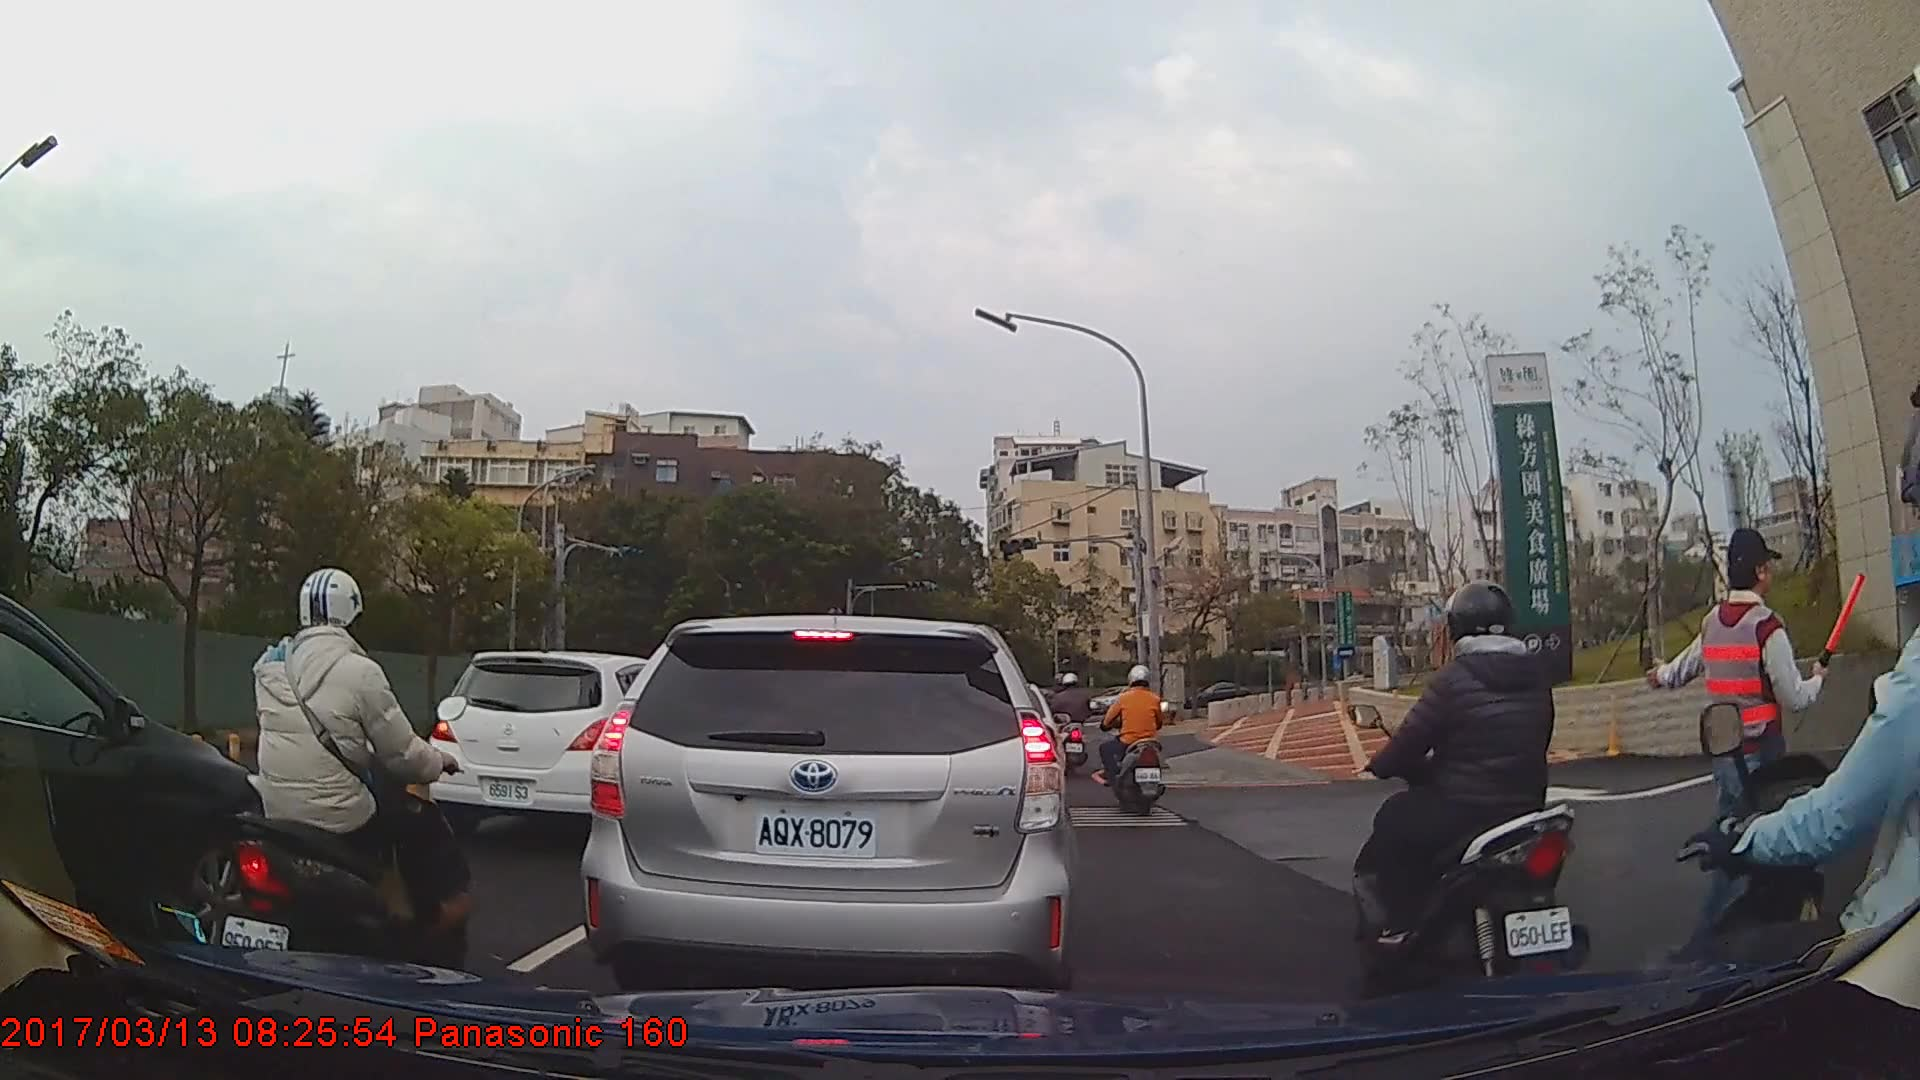pedestrian: (1644, 525, 1863, 984)
rider: (1672, 400, 1920, 1080), (214, 566, 481, 1007), (1354, 578, 1584, 995), (1097, 660, 1171, 813), (1052, 669, 1095, 775)
vehicle: (575, 613, 1075, 990), (0, 589, 290, 961), (426, 649, 682, 840), (1183, 679, 1253, 717)
